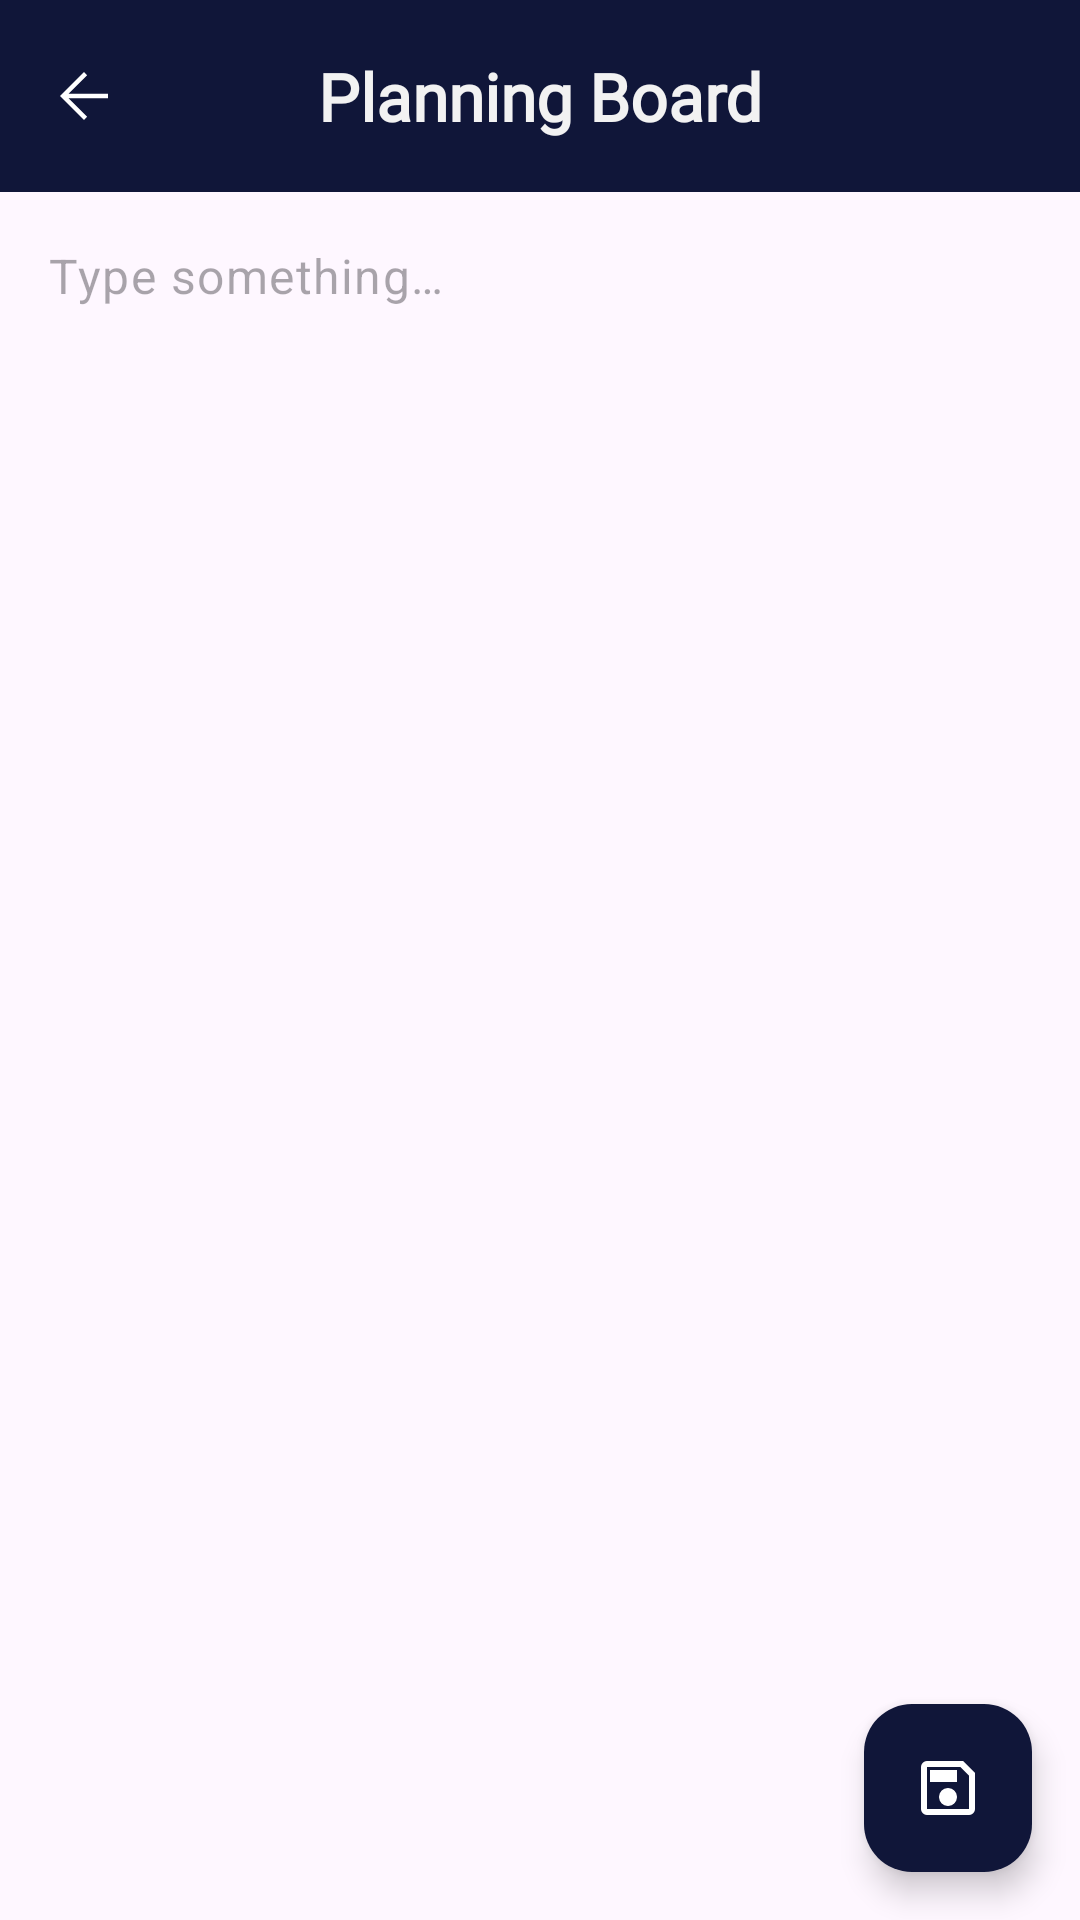

Screen size 1080 × 1920. Icon name, then its center in pixels as (x,y):
back: (84,96)
save: (948,1788)
